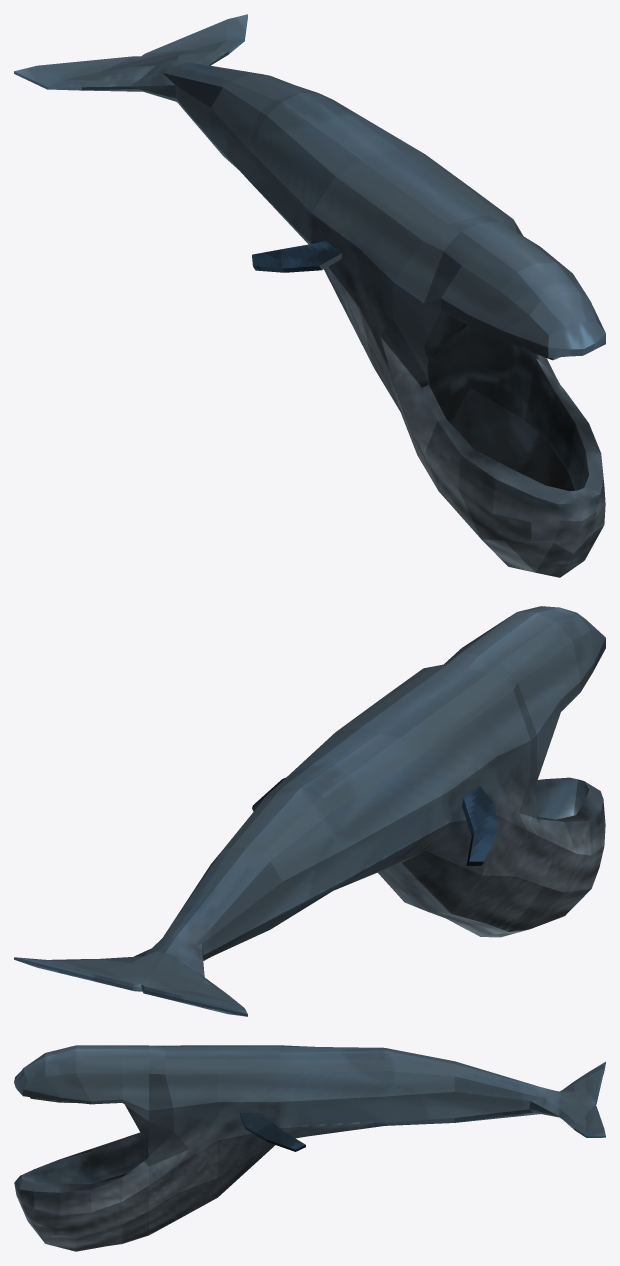
File: Blue_Whale.fbx
The picture shows the model from 3 angles, top to bottom: view 1: azimuth 30°, elevation 25°; view 2: azimuth 150°, elevation 25°; view 3: azimuth 270°, elevation 25°; orthographic projection. The views are drawn at different scales.
Parts seen in each view (by area): view 1: Cube, Cube.001; view 2: Cube, Cube.001; view 3: Cube, Cube.001.
Part boxes in pixels (<box>): Cube: <box>14,14,605,577</box>; Cube.001: <box>252,241,341,272</box>; Cube: <box>14,606,605,1016</box>; Cube.001: <box>252,777,498,865</box>; Cube: <box>14,1045,605,1251</box>; Cube.001: <box>240,1113,305,1151</box>.
Size of the model in its own units: 5.68 by 7.15 by 19.05.
Materials: 2 (2 with a texture image).
